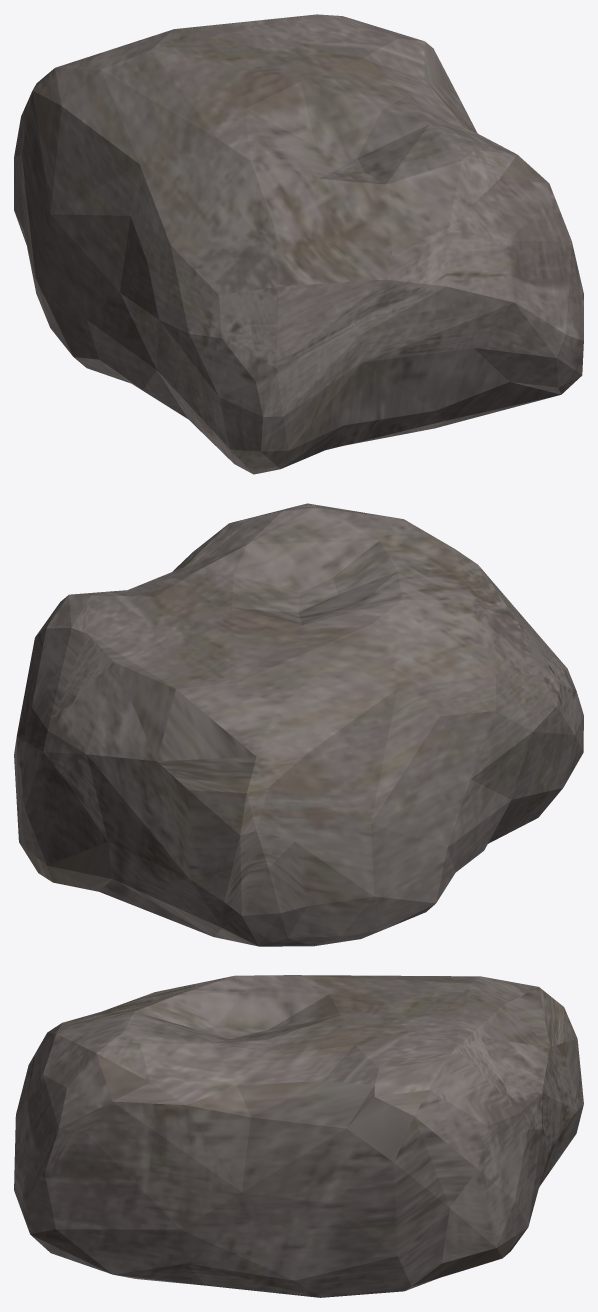
File: rock_01.fbx
3 renders of one model, top to bottom at view 1: azimuth 30°, elevation 25°; view 2: azimuth 150°, elevation 25°; view 3: azimuth 270°, elevation 25°, orthographic. The views are drawn at different scales.
Parts seen in each view (by area): view 1: Cube.002; view 2: Cube.002; view 3: Cube.002.
Boxes of the visible parts, left/top/right/bottom form: Cube.002: left=14, top=14, right=583, bottom=474; Cube.002: left=14, top=503, right=583, bottom=946; Cube.002: left=14, top=975, right=583, bottom=1297.
Bounding box in the file's own units: 209 × 136 × 301.
